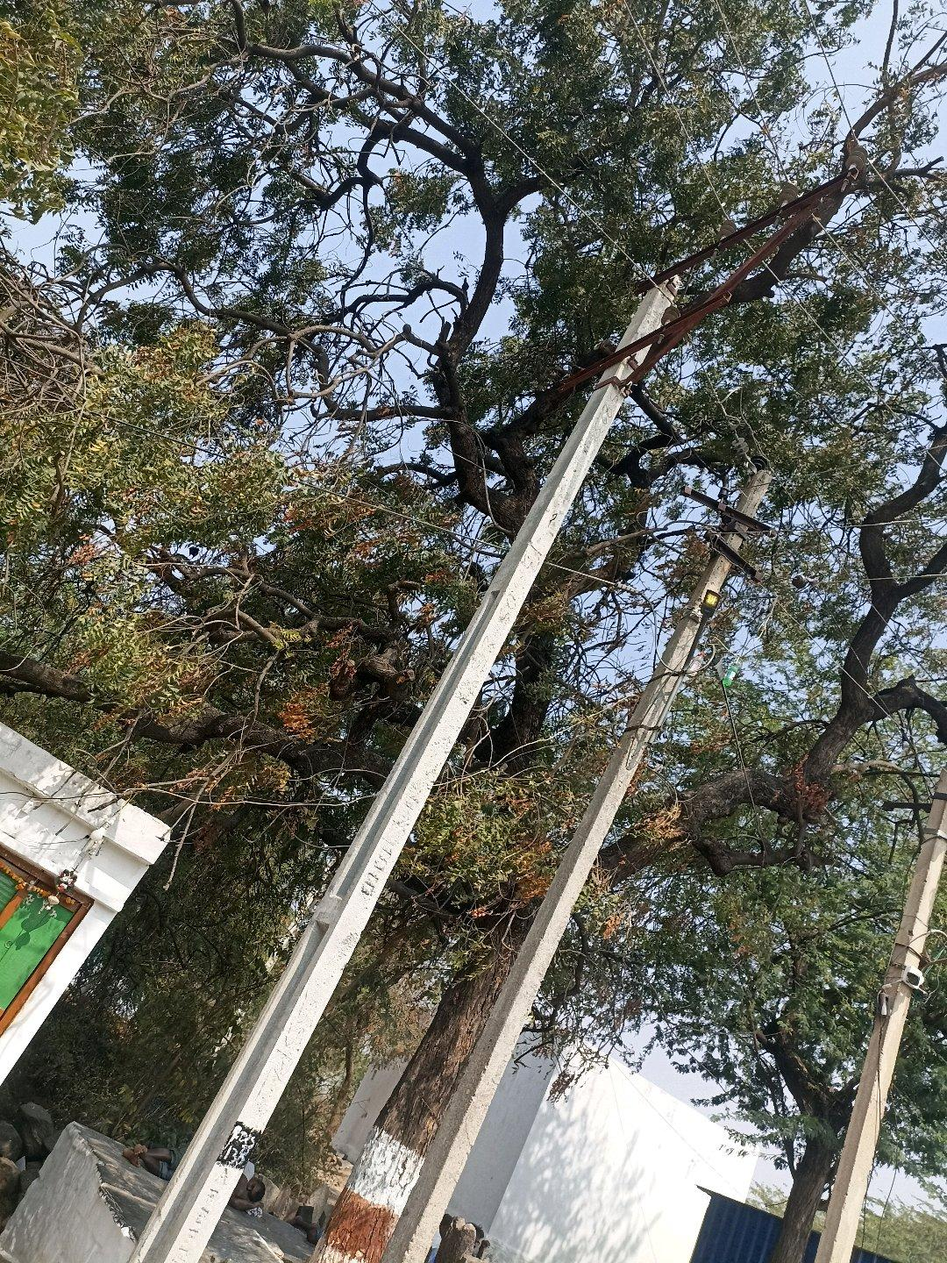{"0" "insulator", "1" "pole", "2" "crossarm", "3" "conductor", "4" "street_: (133, 172, 853, 1262), (383, 470, 771, 1262), (777, 230, 785, 240)
